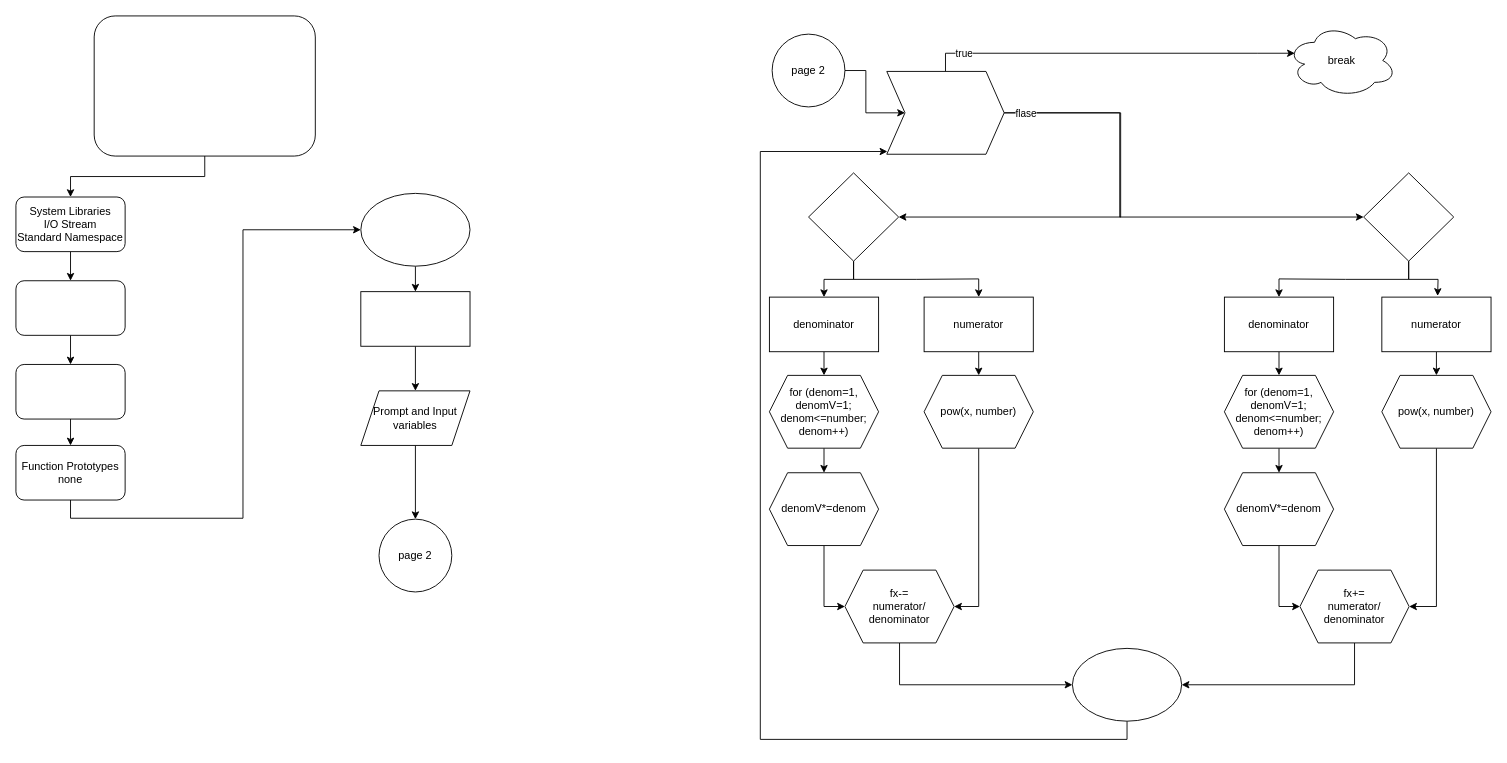
The diagram is 1507 pixels wide and 763 high, and some of its shapes have lost their labels. The centre of each missing label's shape, as x and y in pixels:
"Author: Brandon Smith Created On: July 18 Purpose: Series Calculation" belongs at pixel 204 85.
"Declare Variables" belongs at pixel 415 318.
"Global Constants none" belongs at pixel 70 391.
"if (term%2)==0" belongs at pixel 853 216.
"if (term%2)==1" belongs at pixel 1408 216.
"if terms<nterms" belongs at pixel 945 112.
"main" belongs at pixel 415 229.
"number+2 term++" belongs at pixel 1127 684.
"User Libraries none" belongs at pixel 70 307.
